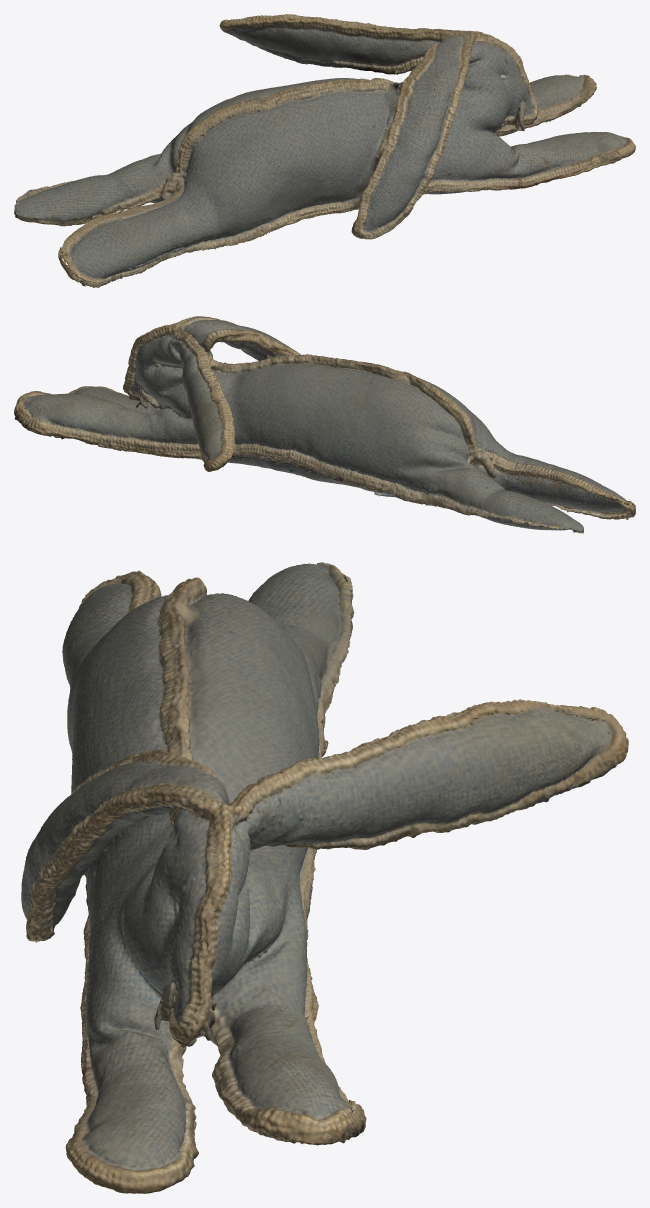
Rendered from peluche.glb.
The picture shows the model from 3 angles, top to bottom: view 1: azimuth 30°, elevation 25°; view 2: azimuth 150°, elevation 25°; view 3: azimuth 270°, elevation 25°; orthographic projection. The views are drawn at different scales.
Parts seen in each view (by area): view 1: Object_3, Object_4, Object_5, Object_6, Object_7, Object_2; view 2: Object_4, Object_6, Object_5, Object_3, Object_7, Object_2; view 3: Object_3, Object_4, Object_6, Object_5, Object_2, Object_7.
Part boxes in pixels (x1,y1,x2,y2): Object_3: (15,17,633,267); Object_4: (14,78,635,275); Object_5: (210,20,587,248); Object_6: (74,14,596,287); Object_7: (17,19,625,287); Object_2: (49,17,627,286); Object_4: (68,368,633,533); Object_6: (14,320,631,519); Object_5: (39,324,626,517); Object_3: (90,316,583,533); Object_7: (14,333,634,528); Object_2: (14,333,635,519); Object_3: (21,577,628,1173); Object_4: (66,562,354,1193); Object_6: (22,606,573,1151); Object_5: (27,634,628,1112); Object_2: (39,592,611,1193); Object_7: (41,643,594,1191).
Size of the model in its own units: 190 by 44.34 by 87.91.
Materials: 1 (1 with a texture image).
